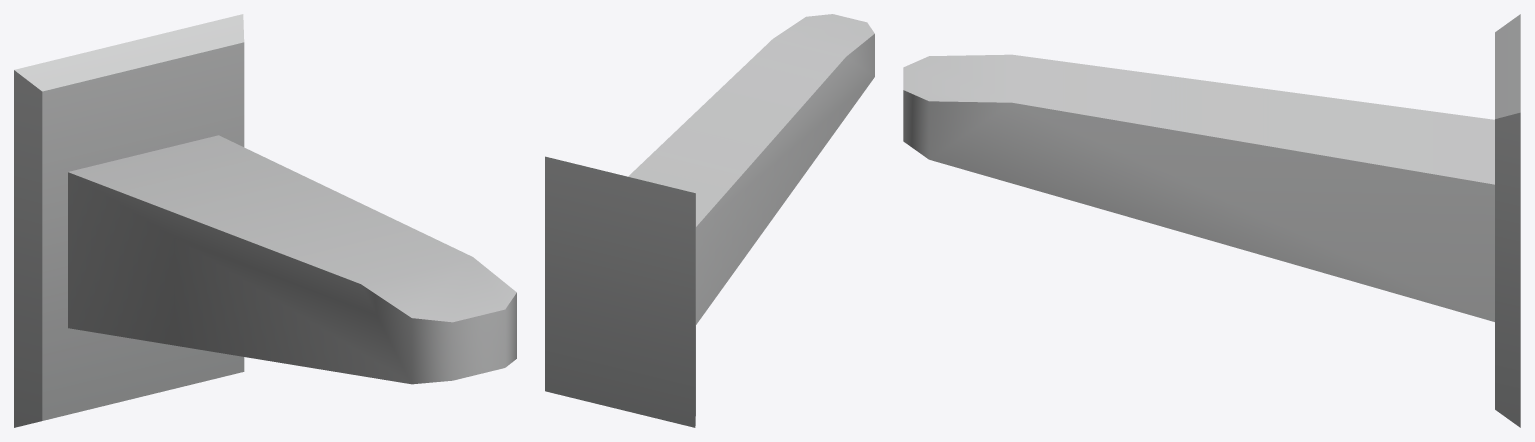
The model's file is Security_cam_007.fbx.
The picture shows the model from 3 angles, left to right: view 1: azimuth 30°, elevation 25°; view 2: azimuth 150°, elevation 25°; view 3: azimuth 270°, elevation 25°; orthographic projection. The views are drawn at different scales.
Parts seen in each view (by area): view 1: Security_cam_007; view 2: Security_cam_007; view 3: Security_cam_007.
Part boxes in pixels (<box>): Security_cam_007: <box>14,14,516,427</box>; Security_cam_007: <box>545,14,874,427</box>; Security_cam_007: <box>903,14,1520,427</box>.
Size of the model in its own units: 12.07 by 31.94 by 18.01.
